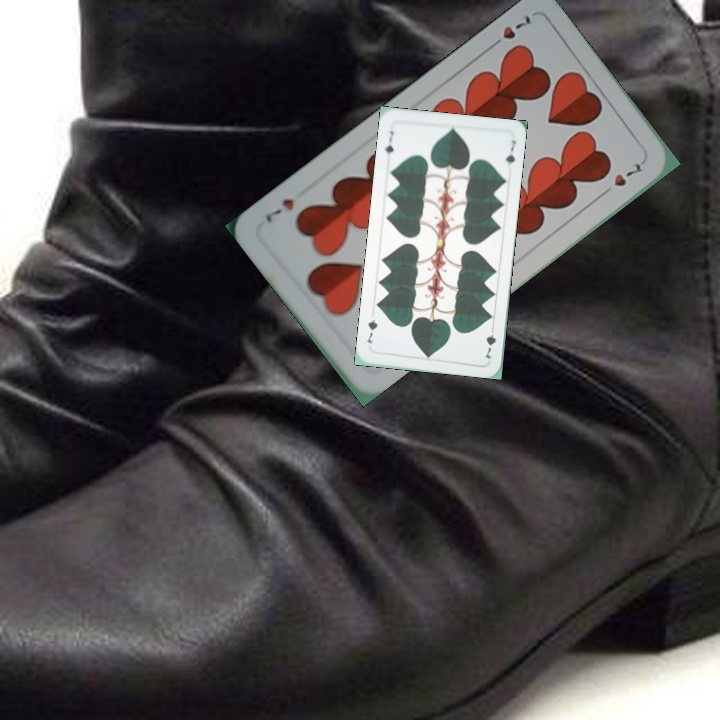G7: (482, 322, 499, 361), (381, 127, 396, 157)
H7: (485, 10, 533, 52)
